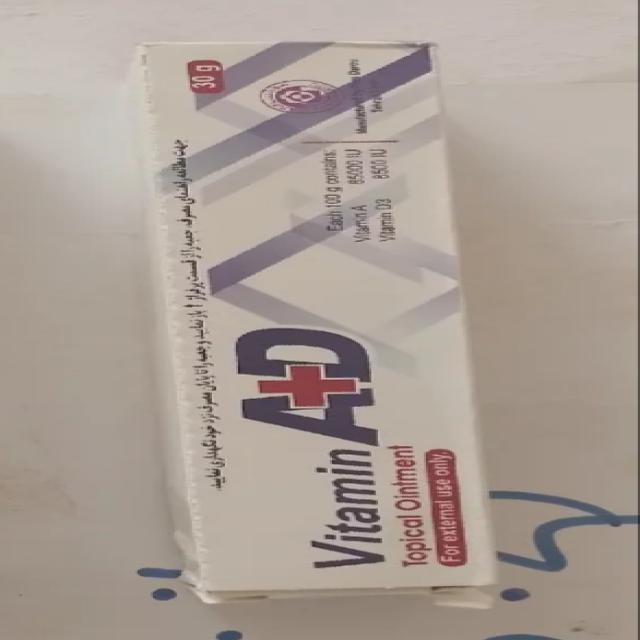drug-name: (222, 318, 394, 580)
